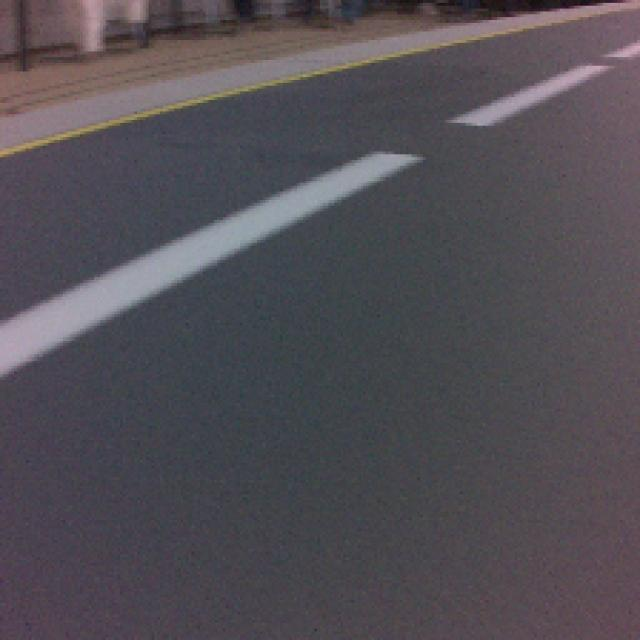Road: (0, 271, 635, 638)
